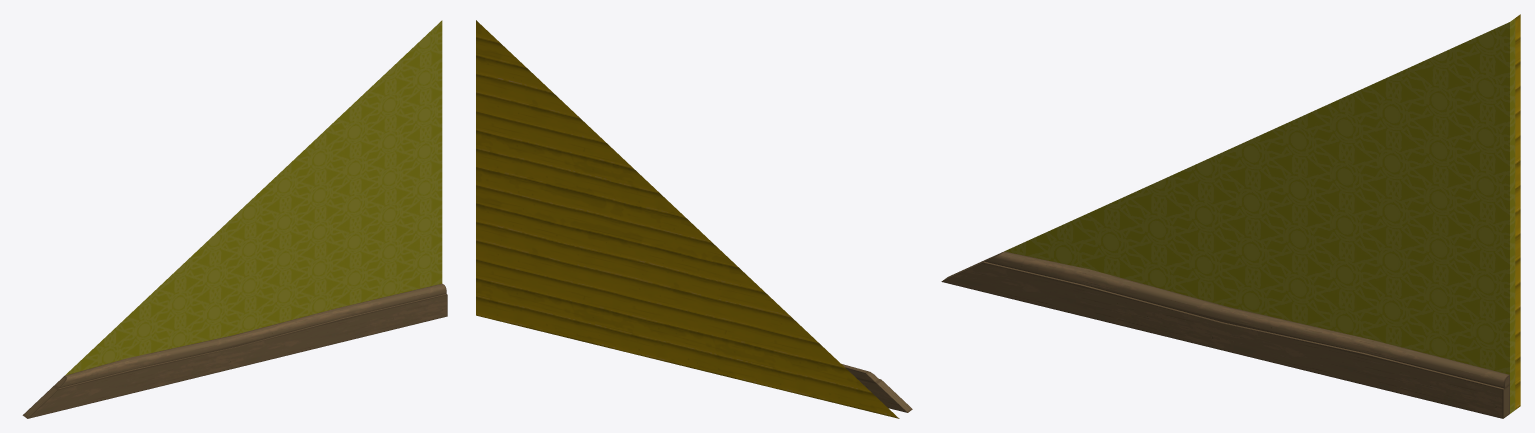
Rendered from SM_building_wall_15.glb.
3 views of the same model, side by side, from view 1: azimuth 30°, elevation 25°; view 2: azimuth 150°, elevation 25°; view 3: azimuth 330°, elevation 25° (orthographic). The views are drawn at different scales.
Parts seen in each view (by area): view 1: SM_building_wall_15; view 2: SM_building_wall_15; view 3: SM_building_wall_15.
Boxes of the visible parts, bbox=[...] form: SM_building_wall_15: bbox=[22, 20, 447, 418]; SM_building_wall_15: bbox=[476, 20, 912, 418]; SM_building_wall_15: bbox=[941, 14, 1520, 418].
Size of the model in its own units: 6 by 4 by 0.3245.
3 materials, 3 textured.
